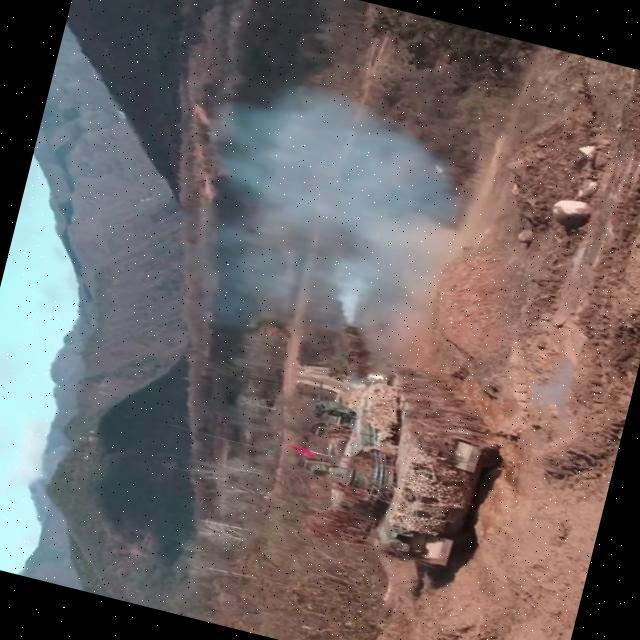korea tank: (270, 314, 516, 576)
